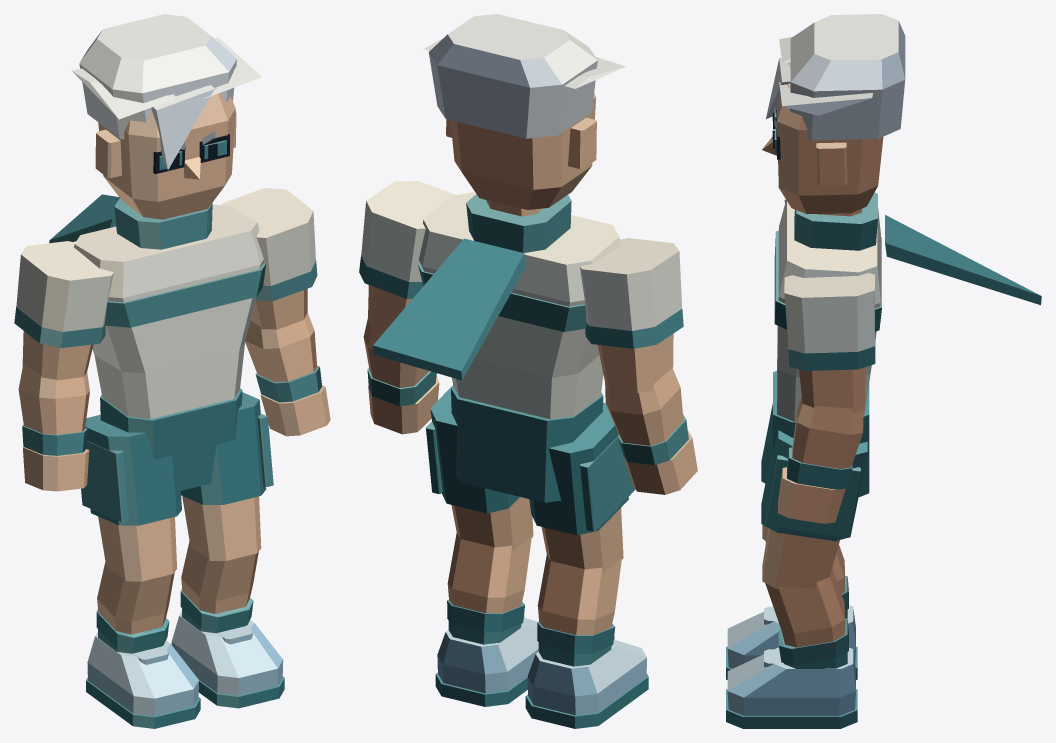
Rendered from echo-preview.glb.
3 views of the same model, side by side, from view 1: azimuth 30°, elevation 25°; view 2: azimuth 150°, elevation 25°; view 3: azimuth 270°, elevation 25° (orthographic). The views are drawn at different scales.
Parts seen in each view (by area): view 1: Jersey, HairMass, Head, Sleeve.R, ShortsWaist, Boot.R, Boot.L, Sleeve.L, Shorts.R, Shorts.L, ChestBand, Thigh.R (+25 smaller); view 2: Jersey, HairMass, ScarfTail, ShortsWaist, Head, Sleeve.R, Sleeve.L, Boot.R, Calf.R, Calf.L, Boot.L, Shorts.R (+25 smaller); view 3: HairMass, Sleeve.L, Head, Boot.L, Jersey, Calf.L, ScarfTail, Forearm.L, Thigh.L, ScarfCollar, UpperArm.L, ShortsStripe.L (+13 smaller).
Boxes of the visible parts, x1,y1,x2,y2 form: Jersey: (74, 204, 263, 419); HairMass: (79, 14, 236, 139); Head: (98, 87, 235, 219); Sleeve.R: (16, 241, 113, 331); ShortsWaist: (100, 388, 242, 491); Boot.R: (87, 631, 198, 716); Boot.L: (171, 611, 283, 695); Sleeve.L: (222, 188, 315, 285); Shorts.R: (85, 414, 181, 525); Shorts.L: (180, 392, 266, 504); ChestBand: (104, 263, 265, 327); Thigh.R: (98, 516, 176, 581); Jersey: (419, 192, 621, 419); HairMass: (428, 14, 597, 138); ScarfTail: (373, 238, 525, 380); ShortsWaist: (451, 386, 603, 502); Head: (450, 93, 596, 209); Sleeve.R: (579, 238, 682, 330); Sleeve.L: (361, 181, 455, 281); Boot.R: (527, 639, 646, 715); Calf.R: (537, 554, 621, 635); Calf.L: (447, 532, 531, 613); Boot.L: (437, 617, 538, 693); Shorts.R: (529, 403, 628, 535); HairMass: (790, 14, 905, 140); Sleeve.L: (784, 273, 874, 353); Head: (777, 62, 883, 214); Boot.L: (727, 647, 855, 716); Jersey: (777, 200, 880, 421); Calf.L: (765, 568, 844, 647); ScarfTail: (885, 215, 1041, 305); Forearm.L: (792, 397, 863, 468); Thigh.L: (762, 528, 839, 588); ScarfCollar: (794, 192, 877, 250); UpperArm.L: (799, 367, 865, 413); ShortsStripe.L: (765, 455, 860, 537).
Size of the model in its own units: 1.11 by 2.32 by 1.02.
